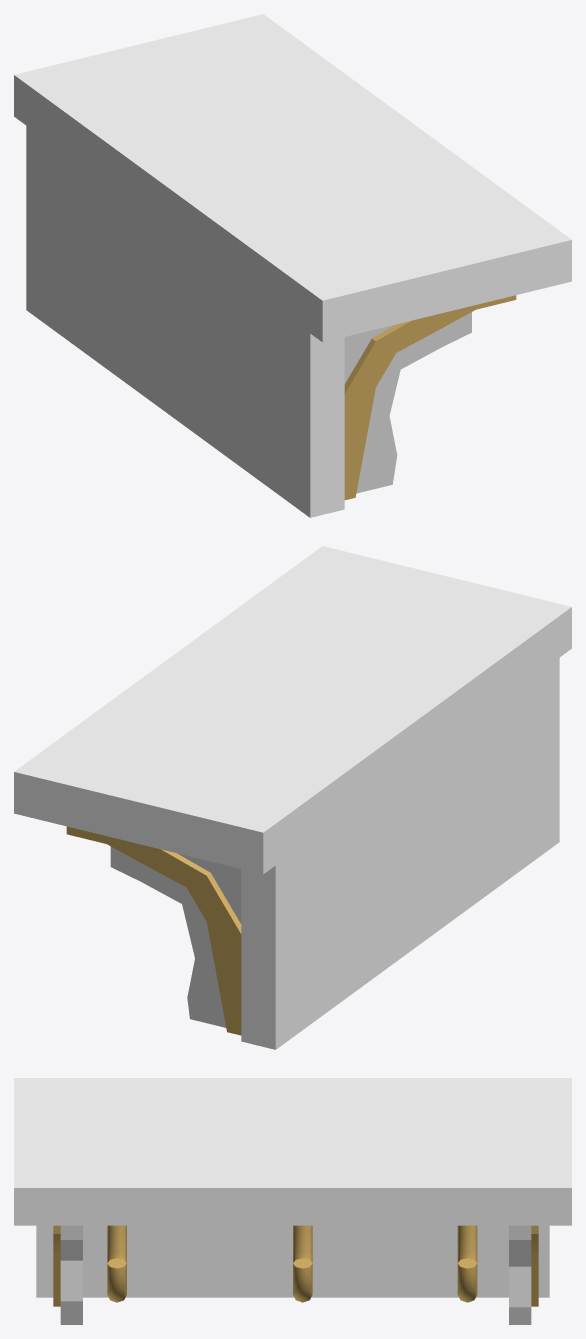
Rendered from BathroomShelf.fbx.
3 renders of one model, top to bottom at view 1: azimuth 30°, elevation 25°; view 2: azimuth 150°, elevation 25°; view 3: azimuth 270°, elevation 25°, orthographic. The views are drawn at different scales.
Parts seen in each view (by area): view 1: polySurface2; view 2: polySurface2; view 3: polySurface2.
Boxes of the visible parts, x1=… form: polySurface2: x1=14, y1=14, x2=571, y2=517; polySurface2: x1=14, y1=546, x2=571, y2=1049; polySurface2: x1=14, y1=1078, x2=571, y2=1324.
Size of the model in its own units: 3.32 by 2.88 by 7.11.
